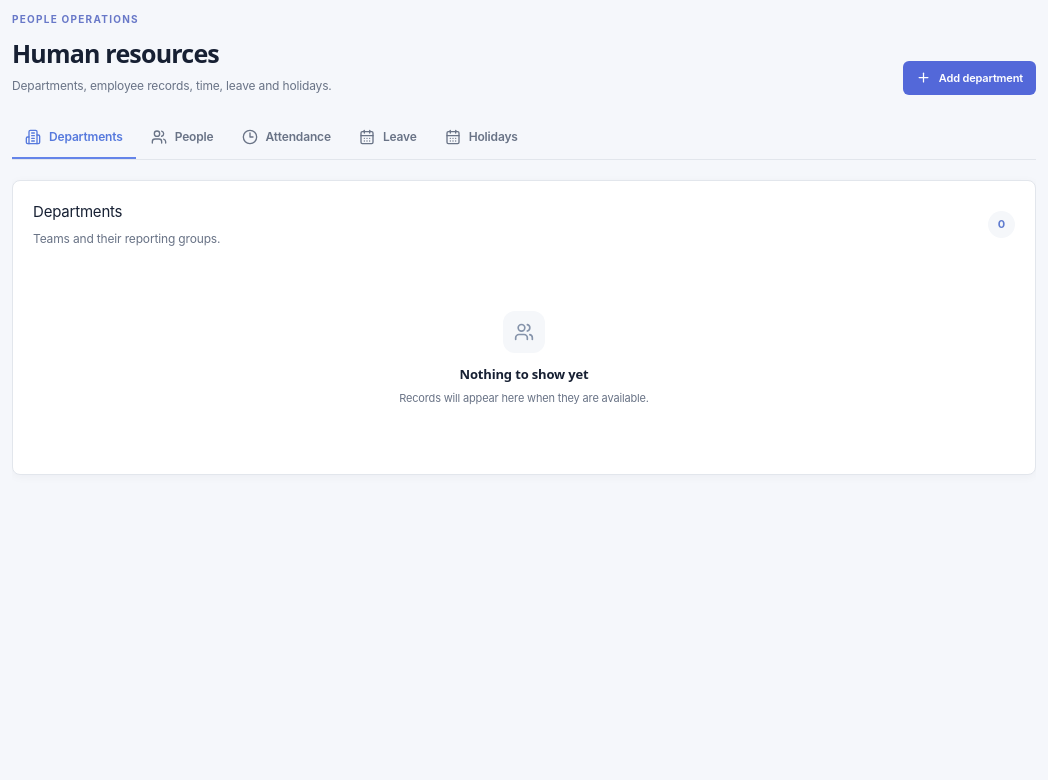
HR page › loads and displays the paginated monthly attendance summary
The image size is (1048, 780).
Click the button "Attendance": (286, 138) left=228, top=117, right=344, bottom=159
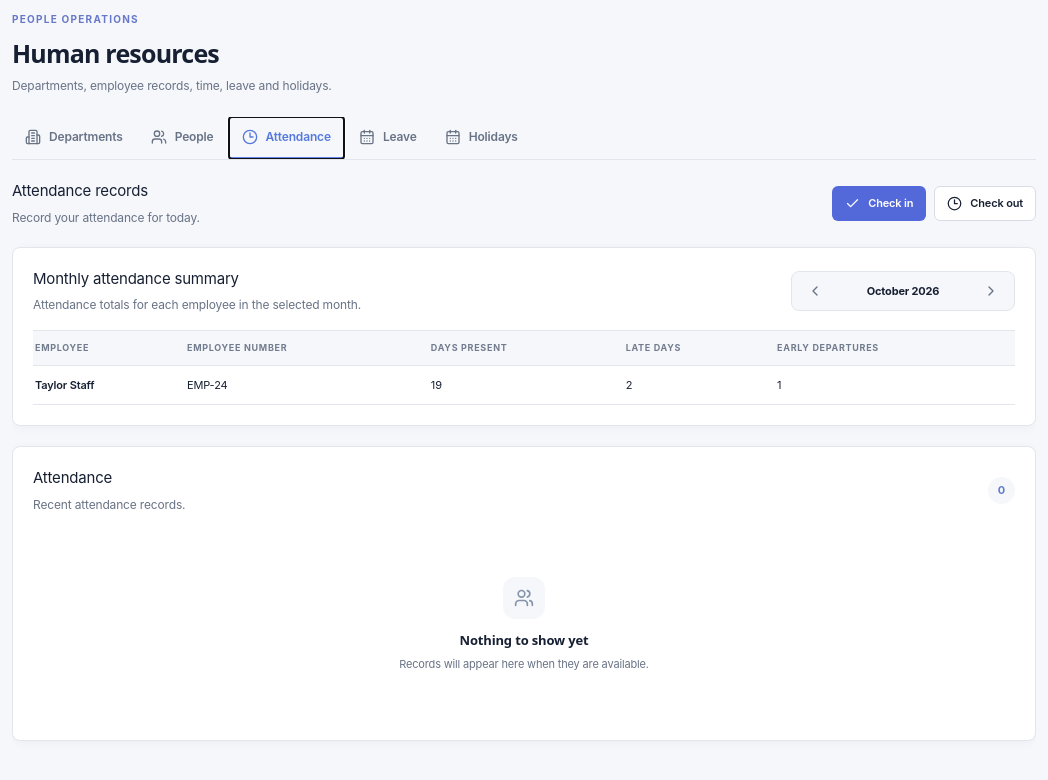
Check: the heading "Monthly attendance summary" is shown, box left=33, top=268, right=239, bottom=288
Check: the text "Taylor Staff" is shown, box left=35, top=378, right=94, bottom=392
Check: the text "EMP-24" is shown, box left=178, top=366, right=422, bottom=405
